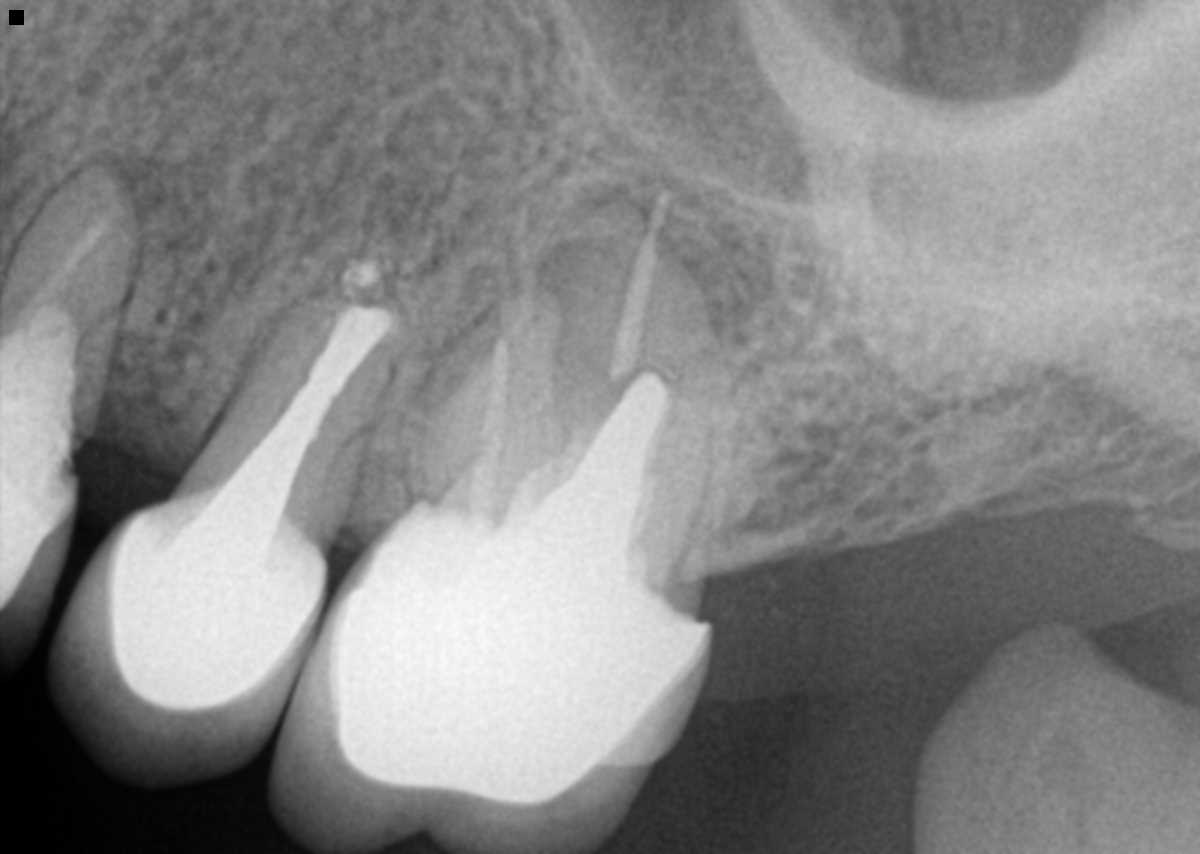Apical Lesion: (559, 175, 768, 332), (126, 150, 206, 274)
Distal Root: (504, 331, 714, 594)
Main Root: (184, 289, 406, 538), (0, 158, 136, 453)
Mesial Root: (408, 290, 569, 510)
Palatal Root: (439, 156, 699, 578)
Root Canal Filling: (12, 201, 120, 334), (611, 190, 667, 380), (467, 341, 510, 506)
